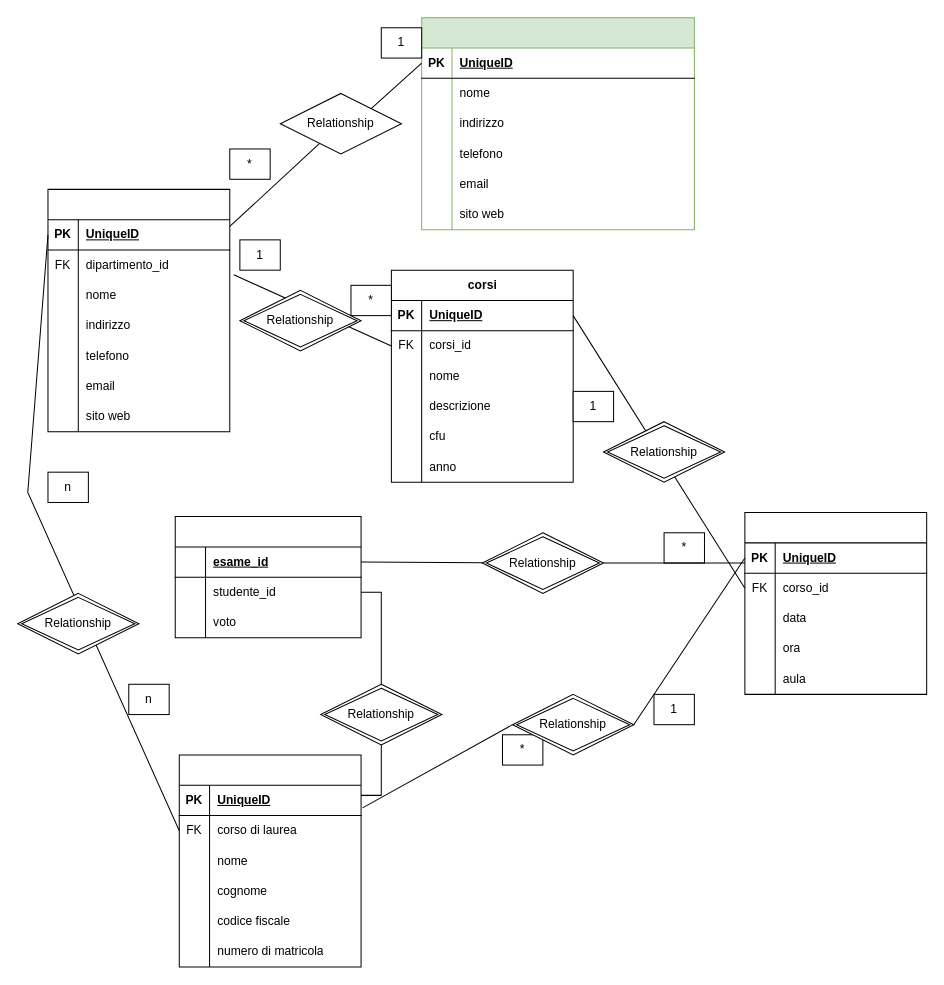
This 944x985 diagram has some shape labels left out. Here are the shapes that lost their labels. From the top down, the box of each, then its label:
(421, 17, 694, 230): dipartimenti
(47, 188, 230, 432): corsi di laurea
(174, 516, 361, 638): voti
(744, 512, 927, 694): esami
(178, 754, 361, 967): studenti
